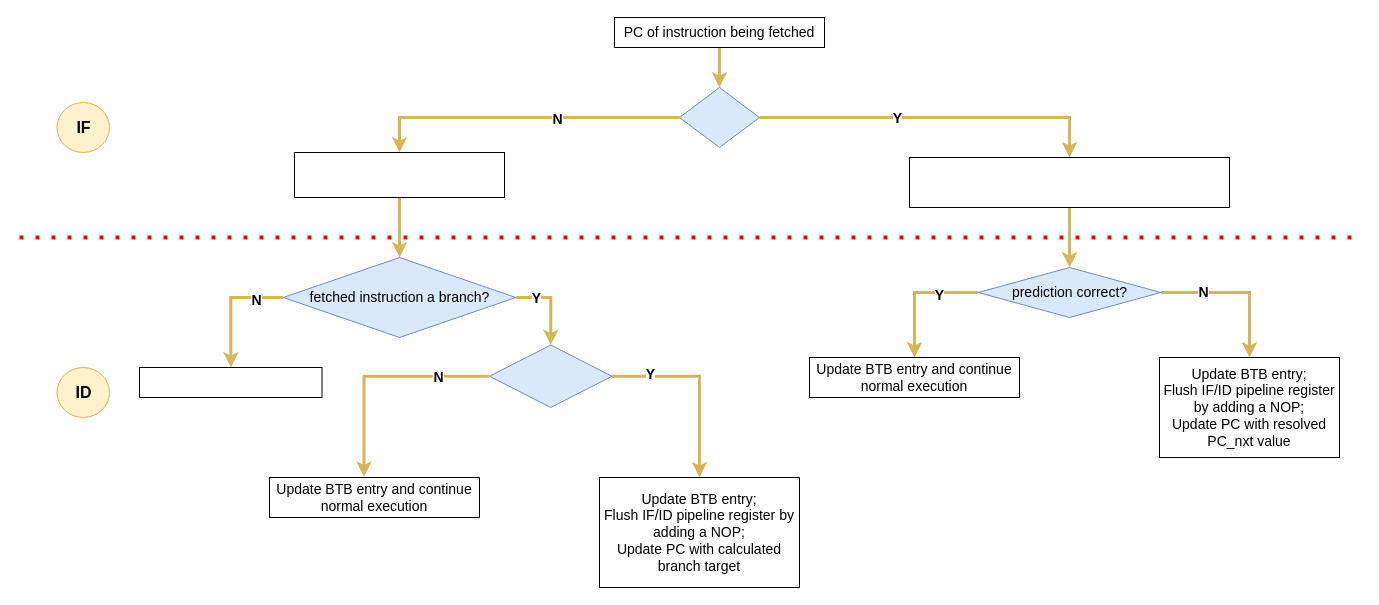
Some shapes in this 1379 by 605 pixel diagram are drawn without their labels. The shapes that lost their labels are listed below. From the top down, each one's box as (x1, y1, x2, y2) in pixels, then its label:
(678, 86, 760, 148): In BTB?
(294, 152, 504, 198): PC_next = PC + 4 Instruction goes to ID state
(908, 156, 1230, 208): PC_next = branch_prediction ? btb.target : PC + 4 Instruction goes to ID stage
(138, 366, 322, 398): continue normal execution
(488, 344, 612, 408): branch taken?
